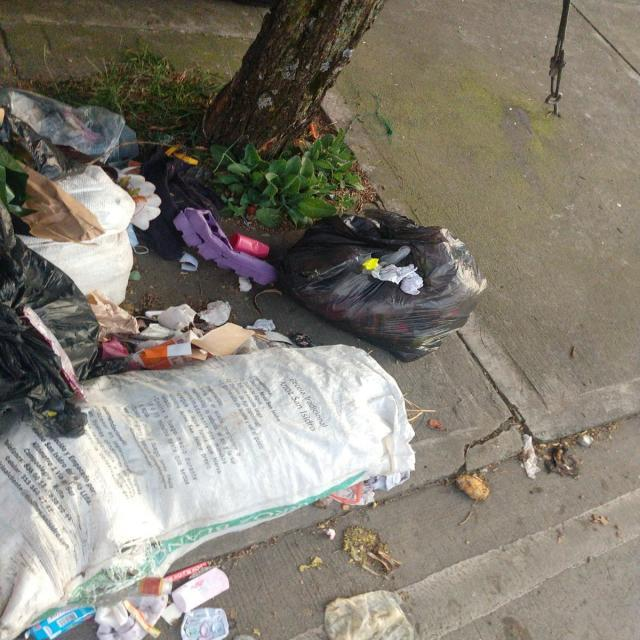high trash: (0, 89, 484, 640)
less trash: (324, 590, 419, 640), (456, 472, 490, 501)
